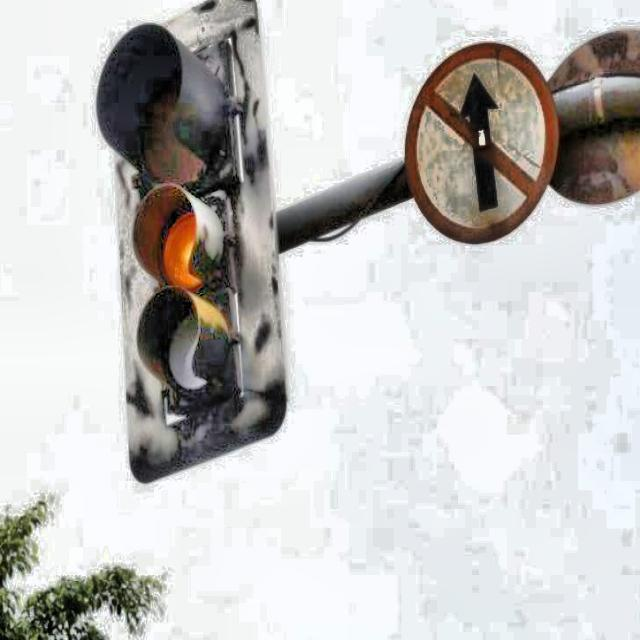yellow: (137, 51, 237, 418)
